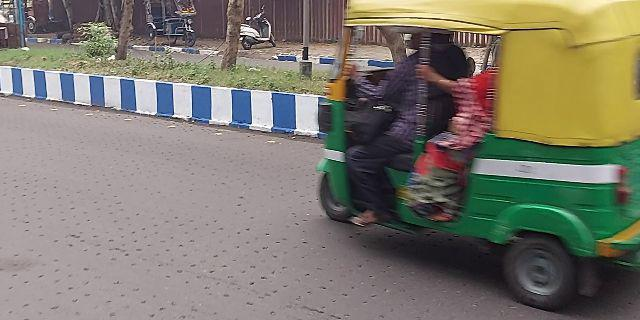Autorickshaw: (310, 3, 632, 282)
